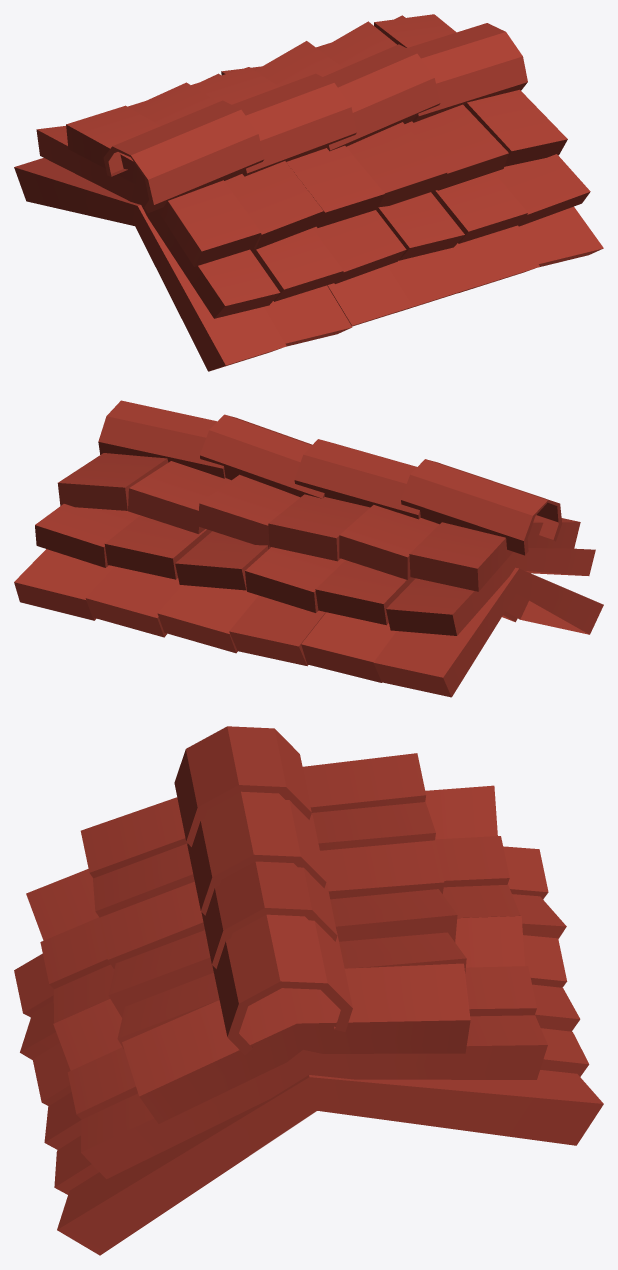
File: TEJAROJA.fbx
3 views of the same model, one above another, from view 1: azimuth 30°, elevation 25°; view 2: azimuth 150°, elevation 25°; view 3: azimuth 270°, elevation 25° (orthographic). The views are drawn at different scales.
Parts seen in each view (by area): view 1: TEJAS_UNION.001; view 2: TEJAS_UNION.001; view 3: TEJAS_UNION.001.
Boxes of the visible parts, x1,y1,x2,y2 form: TEJAS_UNION.001: [14, 14, 603, 371]; TEJAS_UNION.001: [14, 400, 603, 697]; TEJAS_UNION.001: [14, 726, 603, 1255].
Size of the model in its own units: 410 by 183 by 347.
